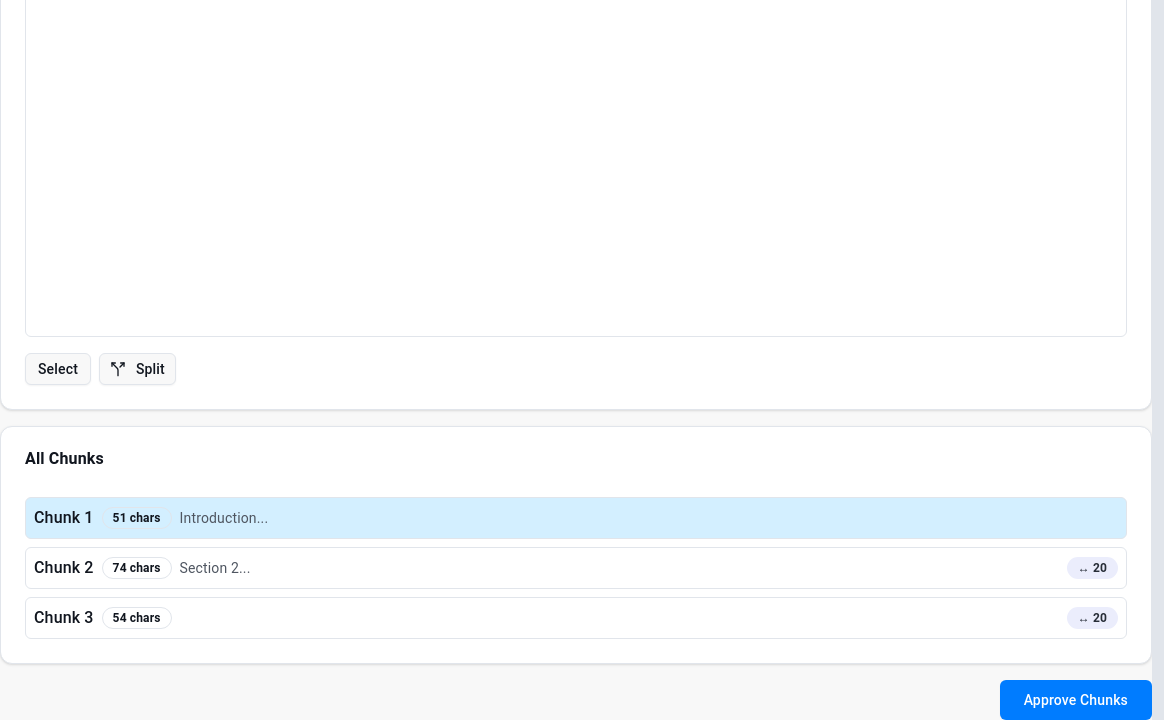
Test: ChunkPreview › should navigate to chunk when clicked in overview
(page scrolled)
Click the text "Chunk 3". click: x=103, y=618
box: x1=34 y1=606 x2=172 y2=630
(page scrolled)
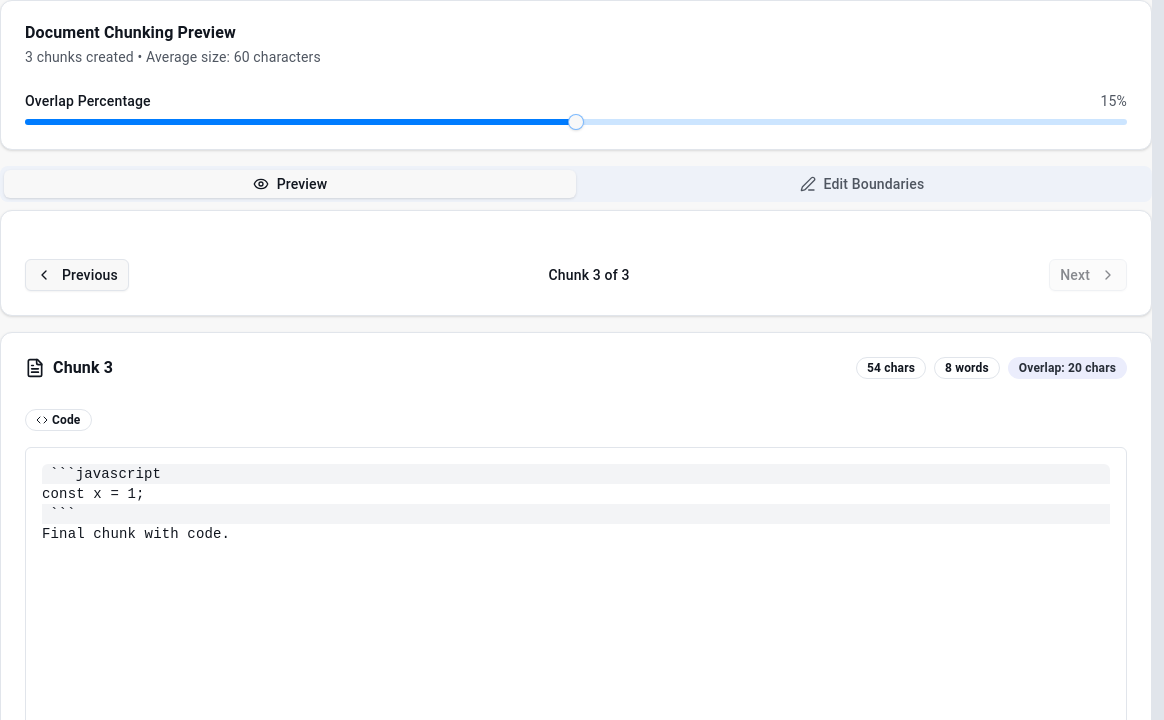
Check: the text "Chunk 3 of 3" is shown, box x1=549 y1=265 x2=630 y2=285
